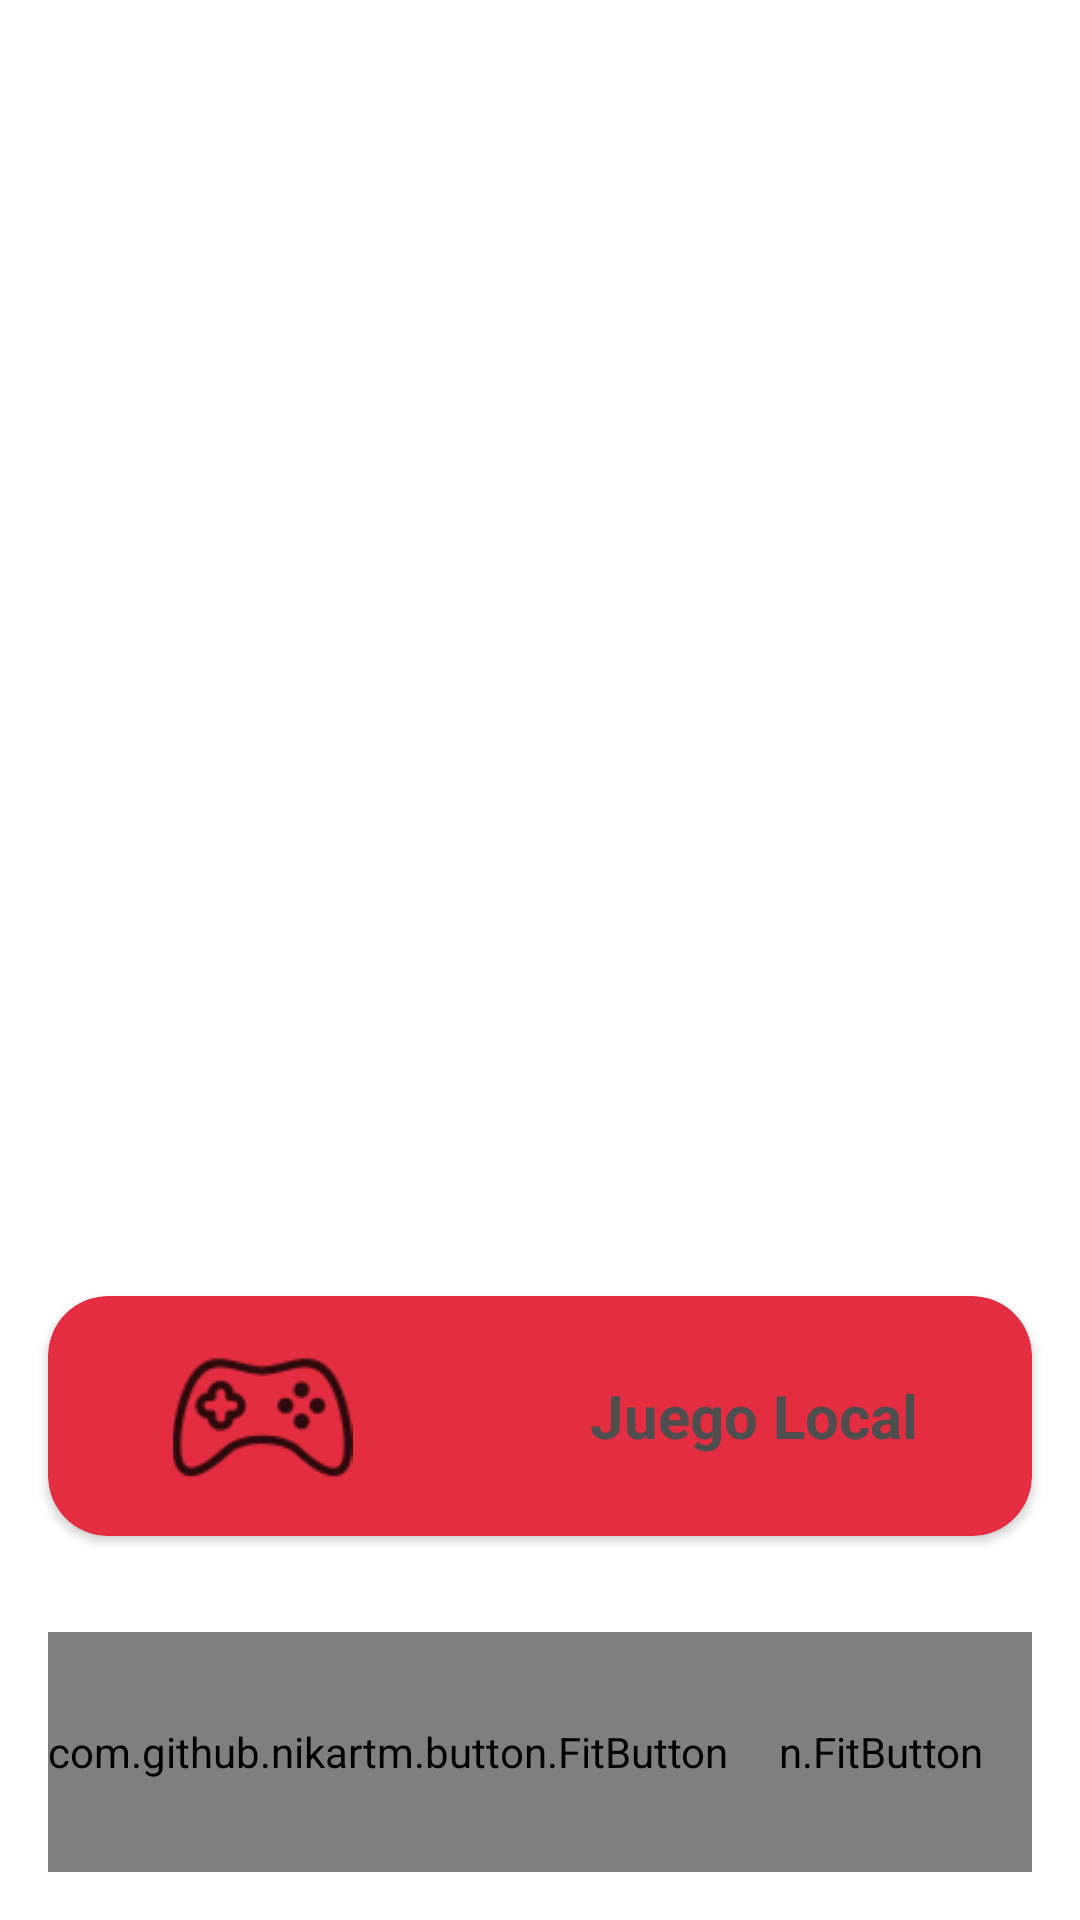

Named icons in this screenshot (1080x1920) and their bounding boxes, bbox(x1, y1, x2, y2):
game: bbox(173, 1358, 353, 1477)
